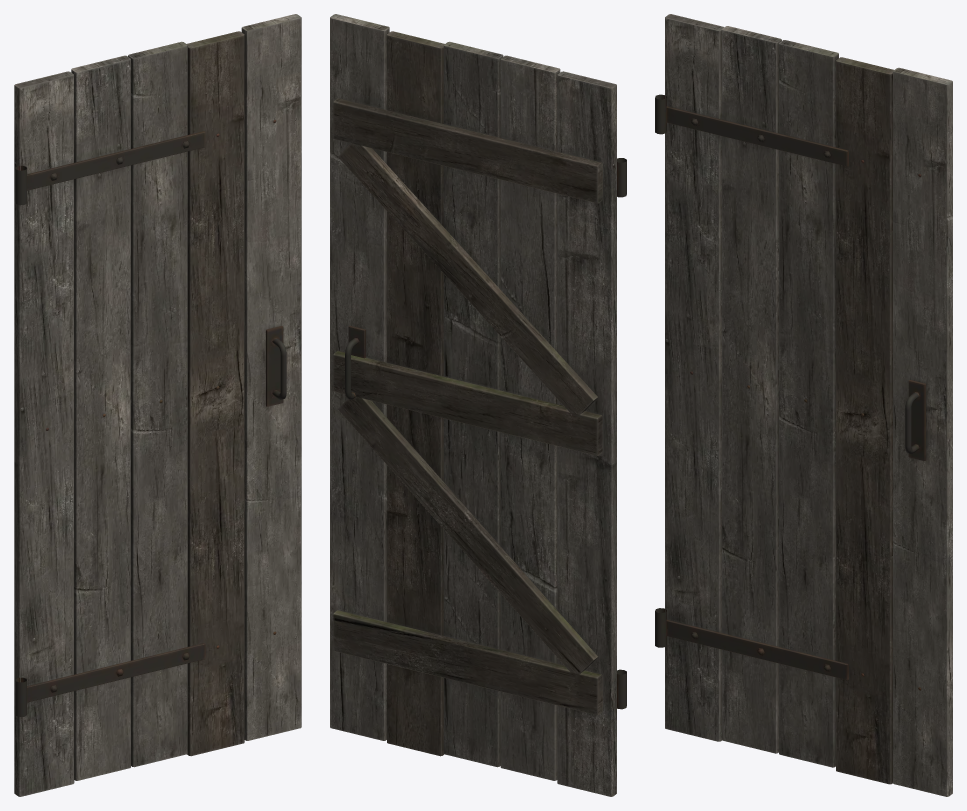
The model's file is door_plank.glb.
3 views of the same model, side by side, from view 1: azimuth 30°, elevation 25°; view 2: azimuth 150°, elevation 25°; view 3: azimuth 330°, elevation 25° (orthographic).
Visible parts, largest first — view 1: door_plank; view 2: door_plank; view 3: door_plank.
Boxes of the visible parts, left/top/right/bottom form: door_plank: left=14, top=14, right=301, bottom=796; door_plank: left=330, top=14, right=626, bottom=796; door_plank: left=655, top=14, right=952, bottom=796.
Size of the model in its own units: 0.874 by 2.06 by 0.1546.
1 material, 1 textured.
